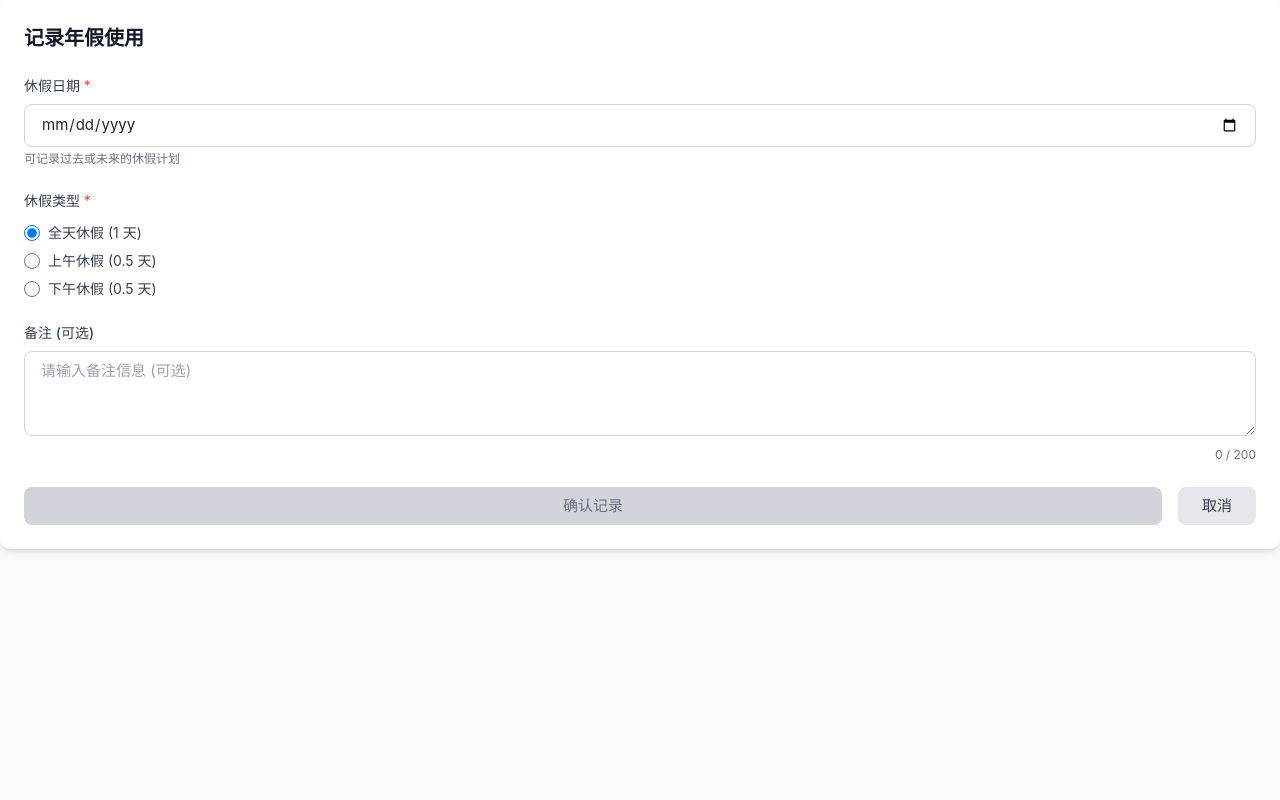
Test: LeaveUsageForm.vue › 表单取消 › 取消时应该重置表单和清除错误
The image size is (1280, 800).
Note: 填写表单并触发错误
Submit the form, box [24,76,1256,525]
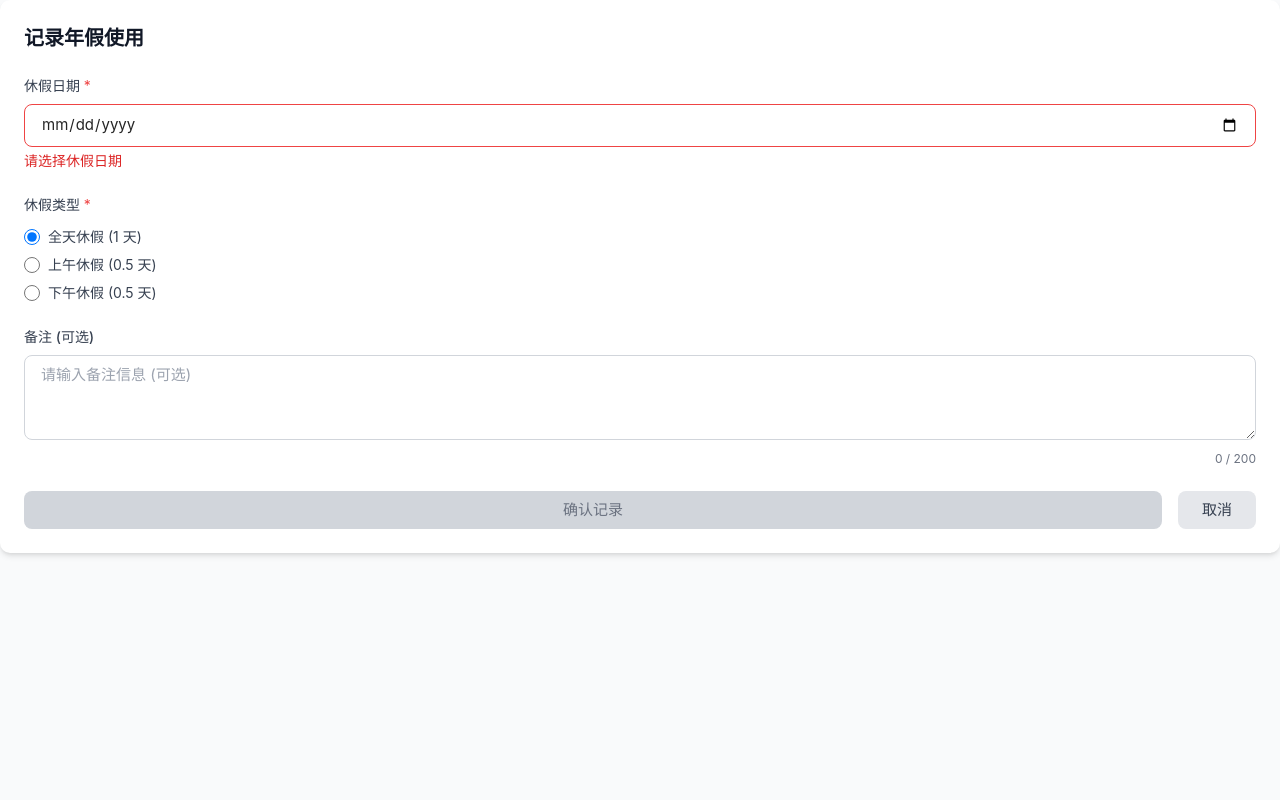
Expected: the text "请选择休假日期" is shown, [24,152,122,168]
Click the button "取消" at (1217, 510), box [1178,490,1256,529]
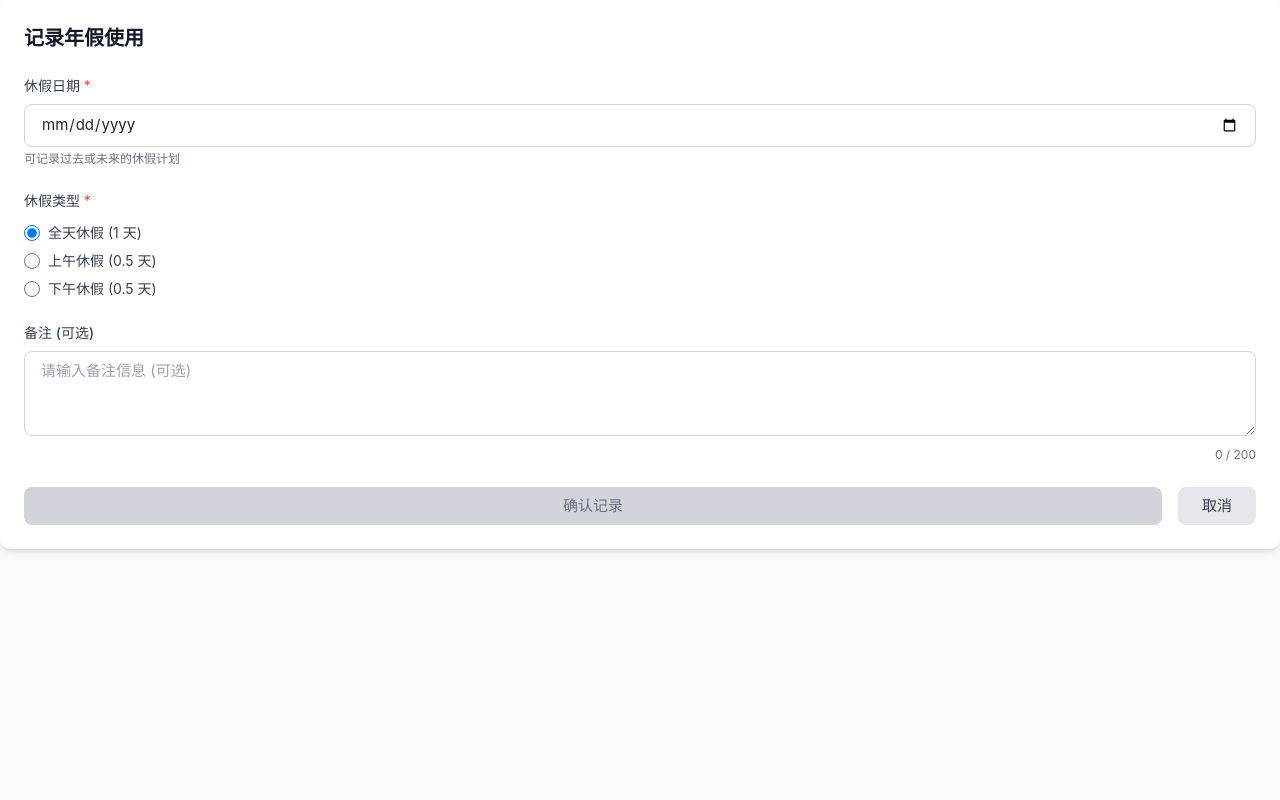
Expected: the text "请选择休假日期" is gone
